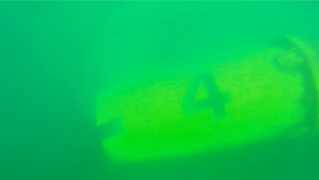4: (185, 70, 227, 119)
pipe: (95, 32, 319, 165)
